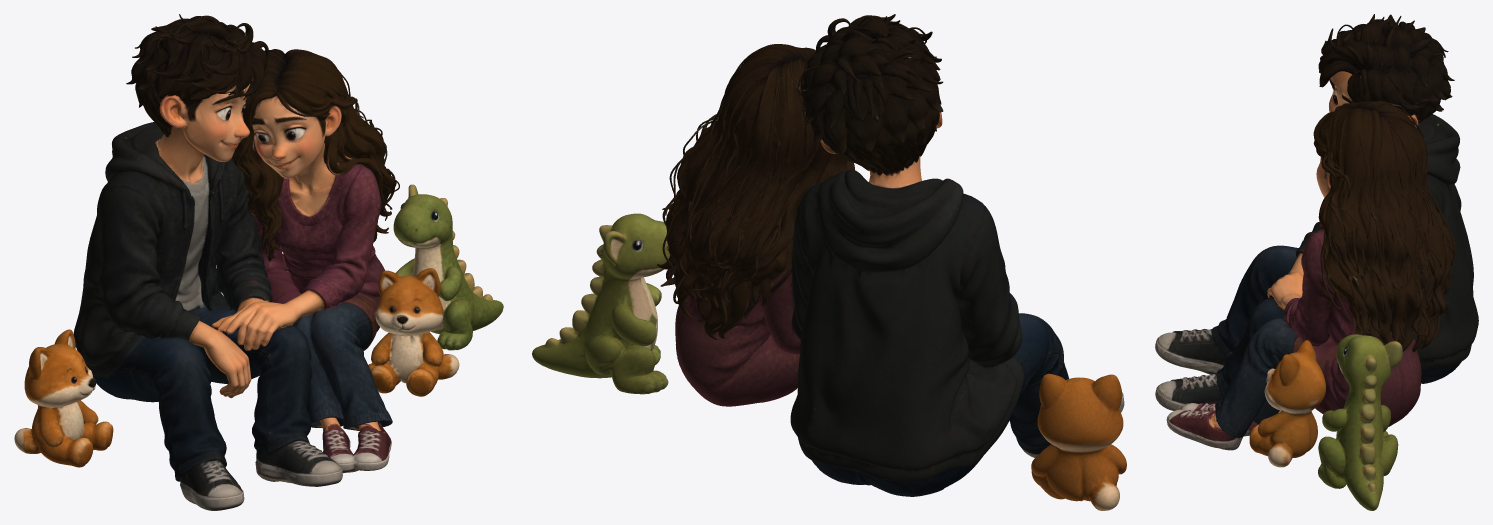
The picture shows the model from 3 angles, left to right: view 1: azimuth 30°, elevation 25°; view 2: azimuth 150°, elevation 25°; view 3: azimuth 270°, elevation 25°; orthographic projection. The views are drawn at different scales.
Visible parts, largest first — view 1: mesh_node; view 2: mesh_node; view 3: mesh_node.
Boxes of the visible parts, <box> form: mesh_node: <box>14,14,503,510</box>; mesh_node: <box>532,14,1126,510</box>; mesh_node: <box>1155,14,1478,510</box>.
Size of the model in its own units: 1.9 by 1.52 by 1.12.
1 material, 1 textured.
